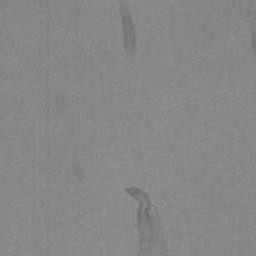Water spot: (126, 187, 168, 256), (120, 1, 136, 55)
